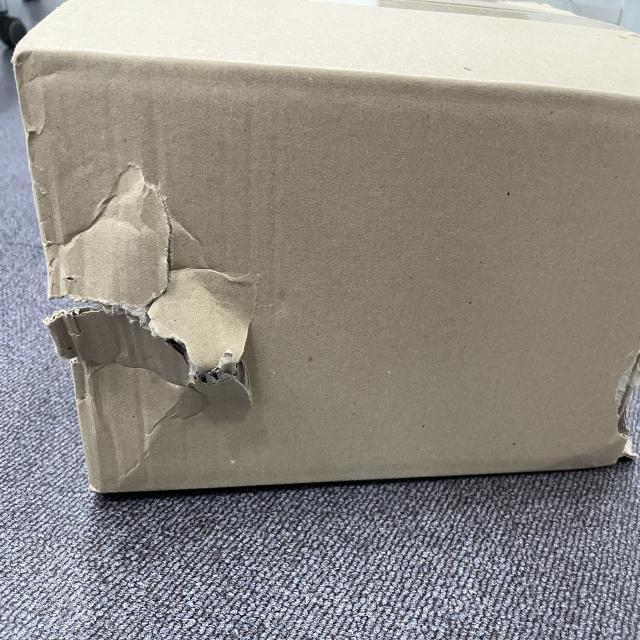hole: (56, 166, 262, 415)
